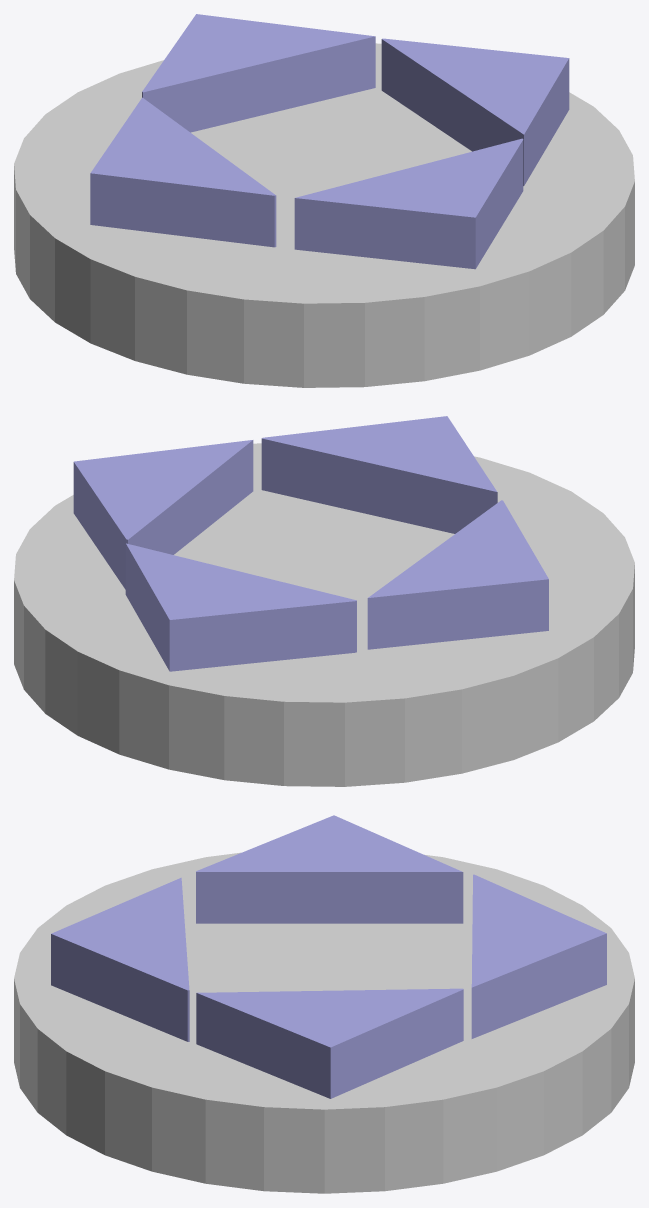
File: Rune5.fbx
3 renders of one model, top to bottom at view 1: azimuth 30°, elevation 25°; view 2: azimuth 150°, elevation 25°; view 3: azimuth 270°, elevation 25°, orthographic.
Visible parts, largest first — view 1: Cylinder, Cube.002, Cube.003, Cube.001, Cube.000; view 2: Cylinder, Cube.003, Cube.002, Cube.001, Cube.000; view 3: Cylinder, Cube.001, Cube.000, Cube.002, Cube.003.
Part boxes in pixels (x1,y1,x2,y2): Cylinder: (14, 43, 634, 387); Cube.002: (294, 138, 523, 269); Cube.003: (142, 14, 375, 132); Cube.001: (90, 97, 276, 247); Cube.000: (381, 38, 569, 185); Cylinder: (14, 443, 634, 786); Cube.003: (125, 543, 356, 671); Cube.002: (261, 416, 497, 533); Cube.001: (367, 500, 548, 649); Cube.000: (73, 440, 253, 589); Cylinder: (14, 852, 634, 1193); Cube.001: (196, 815, 463, 923); Cube.000: (196, 988, 463, 1098); Cube.002: (51, 877, 189, 1041); Cube.003: (471, 874, 606, 1038).
Bounding box in the file's own units: 200 × 48.21 × 200.
